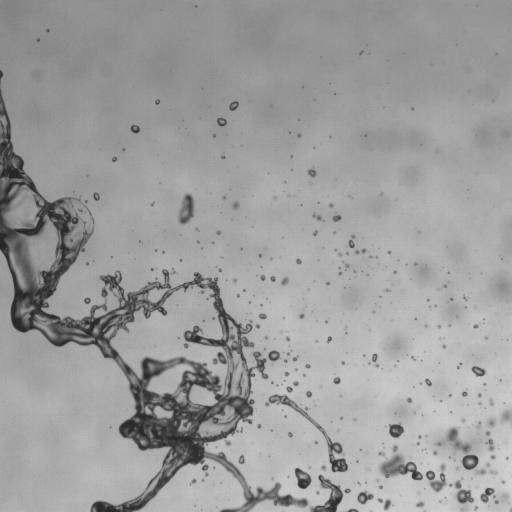droplet: (293, 466, 312, 489), (388, 421, 404, 438), (357, 490, 374, 504), (377, 497, 394, 510), (500, 407, 511, 426), (471, 365, 487, 377), (485, 438, 499, 451), (485, 416, 496, 428), (172, 198, 183, 209), (322, 208, 333, 219), (346, 252, 357, 263), (168, 275, 179, 286), (122, 282, 133, 293), (91, 293, 102, 304), (79, 306, 90, 317), (72, 310, 83, 321), (251, 373, 262, 384), (296, 396, 307, 407), (124, 406, 135, 417), (490, 407, 501, 418), (494, 420, 505, 431), (456, 431, 467, 442), (123, 437, 134, 448), (442, 440, 453, 451), (203, 441, 214, 452), (341, 449, 352, 460), (226, 451, 237, 462), (151, 461, 162, 472), (214, 463, 225, 474), (323, 468, 334, 479), (328, 471, 339, 482), (441, 484, 452, 495), (292, 487, 303, 498), (470, 487, 481, 498), (320, 488, 331, 499), (123, 491, 134, 502), (317, 493, 328, 504), (109, 495, 120, 506), (234, 495, 245, 506), (261, 498, 272, 509), (346, 234, 355, 247), (497, 501, 508, 511), (307, 166, 316, 177), (216, 117, 226, 126), (130, 124, 140, 133), (229, 101, 238, 110), (332, 213, 341, 222), (280, 276, 289, 285), (222, 109, 231, 118), (310, 219, 319, 228), (58, 273, 67, 282), (329, 273, 338, 282), (442, 288, 451, 297), (5, 291, 14, 300), (222, 303, 231, 312), (245, 331, 254, 340), (242, 346, 251, 355), (246, 358, 255, 367), (295, 359, 304, 368), (285, 361, 294, 370), (115, 368, 124, 377), (277, 386, 286, 395), (467, 390, 476, 399), (126, 396, 135, 405), (466, 415, 475, 424), (449, 418, 458, 427), (439, 427, 448, 436), (438, 432, 447, 441), (384, 450, 393, 459), (455, 450, 464, 459), (417, 465, 426, 474), (445, 474, 454, 483), (310, 477, 319, 486), (162, 482, 171, 491), (262, 482, 271, 491), (234, 484, 243, 493), (350, 486, 359, 495), (493, 487, 502, 496), (371, 488, 380, 497), (350, 499, 359, 508), (357, 504, 368, 511), (373, 504, 384, 511), (472, 420, 481, 428), (438, 496, 447, 504), (238, 454, 245, 464), (505, 482, 511, 493), (80, 505, 91, 511), (249, 505, 260, 511), (285, 505, 296, 511), (416, 500, 425, 507), (232, 201, 239, 209), (462, 293, 469, 301), (333, 376, 340, 384), (424, 378, 431, 386), (93, 192, 99, 201), (189, 478, 196, 485), (12, 147, 19, 154), (21, 164, 28, 171), (34, 182, 41, 189), (46, 195, 53, 202), (226, 198, 233, 205), (191, 200, 198, 207), (329, 209, 336, 216), (172, 216, 179, 223), (188, 216, 195, 223), (343, 255, 350, 262), (68, 263, 75, 270), (187, 274, 194, 281), (275, 274, 282, 281), (216, 280, 223, 287), (218, 291, 225, 298), (44, 296, 51, 303), (252, 297, 259, 304), (4, 303, 11, 310), (58, 312, 65, 319), (4, 313, 11, 320), (253, 316, 260, 323), (12, 328, 19, 335), (27, 328, 34, 335), (66, 340, 73, 347), (89, 343, 96, 350), (252, 344, 259, 351), (260, 351, 267, 358), (279, 352, 286, 359), (107, 357, 114, 364), (264, 359, 271, 366), (298, 365, 305, 372), (251, 367, 258, 374), (122, 379, 129, 386), (287, 392, 294, 399), (480, 395, 487, 402), (236, 419, 243, 426), (503, 420, 510, 427), (112, 423, 119, 430), (480, 423, 487, 430), (390, 436, 397, 443), (321, 444, 328, 451), (162, 445, 169, 452), (145, 447, 152, 454), (396, 447, 403, 454), (378, 456, 385, 463), (203, 457, 210, 464), (231, 458, 238, 465), (185, 462, 192, 469), (194, 462, 201, 469), (475, 462, 482, 469), (236, 463, 243, 470), (225, 471, 232, 478), (377, 472, 384, 479), (433, 474, 440, 481), (421, 476, 428, 483), (168, 477, 175, 484), (460, 482, 467, 489), (426, 486, 433, 493), (451, 487, 458, 494), (157, 488, 164, 495), (146, 499, 153, 506), (226, 502, 233, 509), (258, 313, 266, 319), (461, 388, 467, 396), (489, 397, 494, 406), (506, 401, 511, 410), (84, 297, 91, 303), (326, 336, 332, 343), (286, 386, 292, 393), (305, 390, 311, 397), (292, 355, 298, 361), (406, 397, 412, 403), (421, 448, 427, 454), (320, 465, 326, 471), (260, 274, 265, 281), (473, 323, 480, 328), (292, 381, 299, 386), (434, 441, 441, 446), (112, 156, 117, 162), (313, 230, 318, 236), (296, 258, 301, 264), (270, 276, 275, 282), (232, 278, 237, 284), (485, 430, 490, 436), (500, 478, 505, 484), (137, 507, 144, 511), (386, 507, 393, 511), (415, 507, 422, 511), (220, 154, 225, 159), (150, 201, 155, 206), (216, 230, 221, 235), (255, 323, 260, 328), (285, 336, 290, 341), (305, 363, 310, 368), (284, 371, 289, 376), (432, 450, 437, 455), (490, 454, 495, 459), (1, 69, 6, 74), (1, 94, 6, 99), (224, 103, 229, 108), (5, 107, 10, 112), (6, 111, 11, 116), (8, 116, 13, 121), (9, 123, 14, 128), (137, 130, 142, 135), (9, 136, 14, 141), (20, 154, 25, 159), (306, 164, 311, 169), (315, 170, 320, 175), (306, 174, 311, 179), (238, 202, 243, 207), (236, 206, 241, 211), (336, 210, 341, 215), (320, 213, 325, 218), (328, 218, 333, 223), (317, 219, 322, 224), (336, 219, 341, 224), (352, 238, 357, 243), (82, 243, 87, 248), (195, 243, 200, 248), (353, 244, 358, 249), (349, 247, 354, 252), (156, 249, 161, 254), (77, 251, 82, 256), (332, 251, 337, 256), (363, 251, 368, 256), (341, 254, 346, 259), (336, 256, 341, 261), (370, 257, 375, 262), (408, 260, 413, 265), (340, 264, 345, 269), (4, 266, 9, 271), (193, 267, 198, 272), (355, 267, 360, 272), (102, 270, 107, 275), (341, 270, 346, 275), (6, 271, 11, 276), (271, 271, 276, 276), (200, 272, 205, 277), (168, 273, 173, 278), (7, 274, 12, 279), (264, 275, 269, 280), (255, 276, 260, 281), (149, 277, 154, 282), (227, 278, 232, 283), (287, 278, 292, 283), (8, 279, 13, 284), (159, 279, 164, 284), (178, 279, 183, 284), (99, 280, 104, 285), (118, 281, 123, 286), (285, 282, 290, 287), (437, 282, 442, 287), (280, 284, 285, 289), (96, 289, 101, 294), (52, 290, 57, 295), (239, 291, 244, 296), (381, 291, 386, 296), (428, 300, 433, 305), (260, 308, 265, 313), (296, 309, 301, 314), (85, 311, 90, 316), (229, 312, 234, 317), (300, 317, 305, 322), (235, 318, 240, 323), (257, 318, 262, 323), (250, 321, 255, 326), (240, 323, 245, 328), (441, 323, 446, 328), (477, 324, 482, 329), (251, 325, 256, 330), (281, 332, 286, 337), (40, 334, 45, 339), (440, 339, 445, 344), (54, 345, 59, 350), (270, 345, 275, 350), (289, 352, 294, 357), (258, 354, 263, 359), (367, 354, 372, 359), (287, 357, 292, 362), (275, 358, 280, 363), (375, 358, 380, 363), (478, 363, 483, 368), (303, 367, 308, 372), (262, 368, 267, 373), (484, 369, 489, 374), (335, 372, 340, 377), (330, 374, 335, 379), (249, 376, 254, 381), (266, 376, 271, 381), (336, 382, 341, 387), (250, 385, 255, 390), (480, 390, 485, 395), (248, 393, 253, 398), (310, 393, 315, 398), (307, 396, 312, 401), (475, 396, 480, 401), (478, 396, 483, 401), (283, 404, 288, 409), (299, 404, 304, 409), (306, 409, 311, 414), (416, 409, 421, 414), (251, 410, 256, 415), (301, 416, 306, 421), (392, 419, 397, 424), (400, 422, 405, 427), (312, 426, 317, 431), (384, 426, 389, 431), (487, 426, 492, 431), (316, 429, 321, 434), (326, 431, 331, 436), (116, 432, 121, 437), (399, 432, 404, 437), (226, 433, 231, 438), (283, 433, 288, 438), (386, 433, 391, 438), (488, 433, 493, 438), (484, 435, 489, 440), (330, 437, 335, 442), (492, 440, 497, 445), (132, 442, 137, 447), (418, 443, 423, 448), (484, 443, 489, 448), (341, 445, 346, 450), (433, 445, 438, 450), (377, 446, 382, 451), (427, 449, 432, 454), (491, 449, 496, 454), (487, 450, 492, 455), (344, 458, 349, 463), (488, 458, 493, 463), (326, 462, 331, 467), (489, 464, 494, 469), (299, 465, 304, 470), (459, 465, 464, 470), (415, 466, 420, 471), (206, 467, 211, 472), (468, 468, 473, 473), (200, 469, 205, 474), (442, 469, 447, 474), (406, 471, 411, 476), (149, 472, 154, 477), (477, 473, 482, 478), (195, 477, 200, 482), (292, 477, 297, 482), (411, 478, 416, 483), (333, 480, 338, 485), (306, 484, 311, 489), (339, 486, 344, 491), (359, 487, 364, 492), (480, 488, 485, 493), (487, 494, 492, 499), (381, 496, 386, 501), (415, 497, 420, 502), (389, 498, 394, 503), (365, 499, 370, 504), (88, 500, 93, 505), (464, 500, 469, 505), (379, 501, 384, 506), (458, 502, 463, 507), (155, 99, 159, 105), (477, 392, 481, 398), (461, 416, 465, 422), (474, 505, 478, 511), (0, 250, 3, 257), (359, 50, 363, 55), (328, 203, 333, 207), (194, 227, 199, 231), (325, 281, 330, 285), (341, 361, 346, 365), (288, 432, 292, 437), (365, 467, 370, 471), (378, 485, 383, 489), (297, 133, 301, 137), (222, 195, 226, 199), (345, 251, 349, 255), (387, 250, 391, 254), (85, 261, 89, 265), (259, 303, 263, 307), (437, 324, 441, 328), (264, 335, 268, 339), (442, 344, 446, 348), (284, 359, 288, 363), (302, 373, 306, 377), (257, 424, 261, 428), (314, 440, 318, 444), (455, 466, 459, 470), (478, 401, 481, 406), (508, 455, 511, 460), (508, 496, 511, 501), (475, 508, 480, 511), (504, 508, 509, 511), (46, 28, 49, 32), (290, 154, 293, 158), (379, 192, 383, 195), (273, 196, 277, 199), (138, 240, 142, 243), (258, 253, 261, 257), (179, 258, 182, 262), (413, 262, 417, 265), (150, 267, 153, 271), (353, 269, 356, 273), (393, 270, 396, 274), (365, 273, 369, 276), (443, 284, 447, 287), (236, 293, 239, 297), (433, 304, 437, 307), (484, 336, 487, 340), (319, 384, 322, 388), (353, 417, 356, 421), (108, 425, 112, 428), (418, 435, 421, 439), (415, 442, 419, 445), (505, 456, 508, 460), (270, 477, 274, 480), (201, 478, 204, 482), (357, 481, 360, 485), (475, 485, 479, 488), (316, 490, 319, 494), (417, 490, 420, 494), (36, 38, 39, 41), (411, 107, 414, 110), (212, 134, 215, 137), (122, 148, 125, 151), (84, 200, 87, 203), (333, 231, 336, 234), (196, 240, 199, 243), (154, 249, 157, 252), (269, 257, 272, 260), (450, 297, 453, 300), (426, 298, 429, 301), (248, 300, 251, 303), (428, 305, 431, 308), (372, 310, 375, 313), (324, 320, 327, 323), (424, 324, 427, 327), (448, 324, 451, 327), (177, 336, 180, 339), (315, 339, 318, 342), (263, 348, 266, 351), (362, 354, 365, 357), (393, 364, 396, 367), (294, 368, 297, 371), (419, 382, 422, 385), (483, 382, 486, 385), (339, 394, 342, 397), (502, 402, 505, 405), (413, 411, 416, 414), (449, 410, 452, 413), (284, 415, 287, 418), (340, 416, 343, 419), (424, 434, 427, 437), (43, 27, 46, 30), (48, 27, 51, 30), (46, 31, 49, 34), (35, 35, 38, 38), (39, 38, 42, 41), (33, 39, 36, 42), (36, 41, 39, 44), (357, 49, 360, 52), (361, 52, 364, 55), (0, 76, 3, 79), (0, 87, 3, 90), (332, 89, 335, 92), (335, 92, 338, 95), (332, 94, 335, 97), (153, 97, 156, 100), (231, 98, 234, 101), (159, 99, 162, 102), (152, 102, 155, 105), (235, 107, 238, 110), (217, 114, 220, 117), (222, 115, 225, 118), (225, 118, 228, 121), (214, 121, 217, 124), (129, 122, 132, 125), (135, 122, 138, 125), (224, 123, 227, 126), (138, 125, 141, 128), (221, 125, 224, 128), (131, 131, 134, 134), (285, 131, 288, 134), (294, 132, 297, 135), (215, 133, 218, 136), (300, 133, 303, 136), (209, 134, 212, 137), (122, 144, 125, 147), (124, 148, 127, 151), (113, 153, 116, 156), (287, 154, 290, 157), (292, 155, 295, 158), (116, 156, 119, 159), (108, 158, 111, 161), (221, 158, 224, 161), (114, 160, 117, 163), (111, 161, 114, 164), (313, 167, 316, 170), (304, 170, 307, 173), (222, 192, 225, 195), (98, 193, 101, 196), (76, 195, 79, 198), (225, 195, 228, 198), (91, 197, 94, 200), (96, 199, 99, 202), (149, 199, 152, 202), (81, 200, 84, 203), (319, 200, 322, 203), (330, 200, 333, 203), (153, 202, 156, 205), (302, 203, 305, 206), (148, 205, 151, 208), (326, 205, 329, 208), (90, 210, 93, 213), (309, 212, 312, 215), (91, 213, 94, 216), (340, 215, 343, 218), (313, 217, 316, 220), (93, 220, 96, 223), (197, 226, 200, 229), (214, 228, 217, 231), (219, 228, 222, 231), (331, 228, 334, 231), (311, 229, 314, 232), (335, 229, 338, 232), (194, 230, 197, 233), (350, 231, 353, 234), (219, 232, 222, 235), (214, 233, 217, 236), (315, 233, 318, 236), (354, 233, 357, 236), (310, 234, 313, 237), (348, 236, 351, 239), (197, 237, 200, 240), (140, 238, 143, 241), (193, 240, 196, 243), (208, 240, 211, 243), (138, 242, 141, 245), (345, 242, 348, 245), (210, 243, 213, 246), (239, 244, 242, 247), (242, 247, 245, 250), (365, 247, 368, 250), (388, 247, 391, 250), (163, 248, 166, 251), (237, 248, 240, 251), (151, 249, 154, 252), (336, 249, 339, 252), (257, 250, 260, 253), (384, 250, 387, 253), (390, 251, 393, 254), (109, 252, 112, 255), (161, 253, 164, 256), (354, 253, 357, 256), (372, 253, 375, 256), (386, 253, 389, 256), (255, 254, 258, 257), (261, 254, 264, 257), (107, 256, 110, 259), (181, 257, 184, 260), (299, 257, 302, 260), (176, 259, 179, 262), (415, 259, 418, 262), (88, 260, 91, 263), (293, 261, 296, 264), (259, 262, 262, 265), (296, 263, 299, 266), (217, 264, 220, 267), (415, 264, 418, 267), (152, 265, 155, 268), (220, 266, 223, 269), (116, 267, 119, 270), (147, 267, 150, 270), (173, 267, 176, 270), (215, 267, 218, 270), (346, 267, 349, 270), (393, 267, 396, 270), (337, 268, 340, 271), (447, 268, 450, 271), (167, 269, 170, 272), (363, 270, 366, 273), (395, 271, 398, 274), (352, 272, 355, 275), (120, 273, 123, 276), (447, 273, 450, 276), (338, 274, 341, 277), (234, 275, 237, 278), (367, 275, 370, 278), (325, 278, 328, 281), (259, 279, 262, 282), (235, 280, 238, 283), (271, 281, 274, 284), (443, 281, 446, 284), (144, 282, 147, 285), (323, 283, 326, 286), (327, 284, 330, 287), (242, 285, 245, 288), (383, 285, 386, 288), (387, 286, 390, 289), (443, 287, 446, 290), (245, 288, 248, 291), (386, 291, 389, 294), (379, 292, 382, 295), (85, 294, 88, 297), (233, 294, 236, 297), (449, 294, 452, 297), (459, 294, 462, 297), (464, 294, 467, 297), (426, 295, 429, 298), (81, 296, 84, 299), (452, 296, 455, 299), (236, 297, 239, 300), (247, 297, 250, 300), (267, 297, 270, 300), (378, 297, 381, 300), (423, 297, 426, 300), (461, 298, 464, 301), (467, 298, 470, 301), (448, 299, 451, 302), (81, 300, 84, 303), (250, 300, 253, 303), (259, 300, 262, 303), (245, 301, 248, 304), (426, 301, 429, 304), (256, 303, 259, 306), (303, 314, 306, 317), (411, 315, 414, 318), (324, 316, 327, 319), (416, 316, 419, 319), (327, 319, 330, 322), (413, 319, 416, 322), (480, 319, 483, 322), (483, 319, 486, 322), (246, 320, 249, 323), (321, 320, 324, 323), (448, 320, 451, 323), (436, 321, 439, 324), (475, 321, 478, 324), (450, 324, 453, 327), (421, 325, 424, 328), (438, 327, 441, 330), (474, 327, 477, 330), (346, 329, 349, 332), (341, 330, 344, 333), (264, 332, 267, 335), (484, 332, 487, 335), (267, 335, 270, 338), (288, 335, 291, 338), (314, 336, 317, 339), (331, 336, 334, 339), (487, 336, 490, 339), (324, 337, 327, 340), (481, 337, 484, 340), (286, 340, 289, 343), (315, 342, 318, 345), (441, 347, 444, 350), (276, 348, 279, 351), (286, 348, 289, 351), (362, 350, 365, 353), (371, 350, 374, 353), (359, 354, 362, 357), (413, 355, 416, 358), (396, 356, 399, 359), (296, 357, 299, 360), (409, 358, 412, 361), (459, 359, 462, 362), (293, 360, 296, 363), (344, 360, 347, 363), (307, 361, 310, 364), (338, 361, 341, 364), (364, 361, 367, 364), (395, 361, 398, 364), (456, 362, 459, 365), (378, 364, 381, 367), (459, 364, 462, 367), (453, 365, 456, 368), (374, 366, 377, 369), (285, 368, 288, 371), (281, 372, 284, 375), (284, 375, 287, 378), (425, 375, 428, 378), (477, 375, 480, 378), (497, 375, 500, 378), (339, 377, 342, 380), (428, 377, 431, 380), (501, 377, 504, 380), (496, 379, 499, 382), (277, 381, 280, 384), (422, 381, 425, 384), (272, 382, 275, 385), (290, 384, 293, 387), (483, 385, 486, 388), (448, 390, 451, 393), (466, 390, 469, 393), (474, 393, 477, 396), (303, 394, 306, 397), (407, 394, 410, 397), (445, 394, 448, 397), (450, 395, 453, 398), (464, 395, 467, 398), (410, 396, 413, 399), (439, 396, 442, 399), (502, 398, 505, 401), (436, 399, 439, 402), (492, 399, 495, 402), (441, 400, 444, 403), (406, 401, 409, 404), (296, 402, 299, 405), (476, 404, 479, 407), (448, 407, 451, 410), (451, 409, 454, 412), (422, 411, 425, 414), (448, 412, 451, 415), (337, 414, 340, 417), (281, 415, 284, 418), (464, 416, 467, 419), (341, 418, 344, 421), (475, 418, 478, 421), (260, 423, 263, 426), (319, 423, 322, 426), (271, 426, 274, 429), (258, 427, 261, 430), (289, 429, 292, 432), (269, 431, 272, 434), (415, 433, 418, 436), (420, 433, 423, 436), (291, 435, 294, 438), (287, 436, 290, 439), (417, 438, 420, 441), (311, 439, 314, 442), (435, 439, 438, 442), (314, 443, 317, 446), (359, 445, 362, 448), (356, 448, 359, 451), (359, 450, 362, 453), (433, 454, 436, 457), (502, 455, 505, 458), (243, 456, 246, 459), (449, 457, 452, 460), (358, 459, 361, 462), (411, 459, 414, 462), (346, 466, 349, 469), (503, 477, 506, 480), (147, 478, 150, 481), (359, 480, 362, 483), (201, 481, 204, 484), (191, 482, 194, 485), (502, 483, 505, 486), (487, 484, 490, 487), (382, 485, 385, 488), (498, 500, 501, 503), (438, 502, 441, 505), (495, 503, 498, 506), (162, 250, 164, 254), (271, 380, 273, 384), (509, 507, 511, 511), (290, 168, 293, 170), (211, 241, 214, 243), (200, 247, 203, 249), (240, 248, 243, 250), (110, 256, 113, 258), (220, 256, 223, 258), (464, 306, 467, 308), (282, 317, 285, 319), (414, 317, 417, 319), (202, 320, 205, 322), (280, 330, 282, 333), (499, 378, 501, 381), (449, 394, 451, 397), (270, 429, 273, 431), (448, 456, 450, 459), (213, 466, 215, 469), (287, 475, 289, 478), (376, 478, 378, 481), (364, 481, 367, 483), (195, 5, 197, 7), (288, 131, 290, 133), (364, 134, 366, 136), (329, 136, 331, 138), (313, 146, 315, 148), (284, 181, 286, 183), (317, 201, 319, 203), (300, 204, 302, 206), (397, 259, 399, 261), (447, 271, 449, 273), (243, 289, 245, 291), (307, 288, 309, 290), (379, 295, 381, 297), (446, 301, 448, 303), (456, 315, 458, 317), (345, 352, 347, 354), (397, 360, 399, 362), (276, 384, 278, 386), (440, 400, 442, 402), (314, 404, 316, 406), (281, 409, 283, 411), (433, 410, 435, 412), (394, 412, 396, 414), (421, 414, 423, 416), (384, 425, 386, 427), (337, 429, 339, 431), (359, 448, 361, 450), (356, 460, 358, 462), (420, 462, 422, 464), (194, 504, 196, 506), (488, 505, 490, 507), (322, 247, 324, 248), (317, 259, 319, 260), (377, 263, 379, 264), (405, 264, 407, 265), (260, 266, 262, 267), (256, 274, 257, 276), (483, 318, 484, 320), (483, 322, 484, 324), (424, 351, 426, 352), (420, 360, 422, 361), (381, 368, 383, 369), (281, 383, 282, 385), (484, 389, 486, 390), (382, 442, 383, 444), (215, 446, 217, 447), (471, 477, 472, 479), (484, 407, 485, 408), (400, 494, 401, 495)
ligament: (265, 394, 349, 472), (377, 444, 474, 503), (446, 426, 498, 475), (176, 192, 194, 225), (479, 487, 510, 504), (312, 212, 324, 221), (298, 306, 305, 319), (334, 248, 342, 257), (354, 248, 366, 254), (456, 362, 462, 369), (215, 266, 221, 272), (338, 266, 342, 275), (286, 349, 292, 355), (368, 255, 378, 258), (383, 288, 390, 292), (344, 325, 347, 334), (411, 356, 416, 361), (347, 195, 353, 199), (460, 508, 467, 511), (308, 465, 311, 471), (438, 337, 444, 339), (369, 510, 373, 511), (422, 510, 426, 511)
